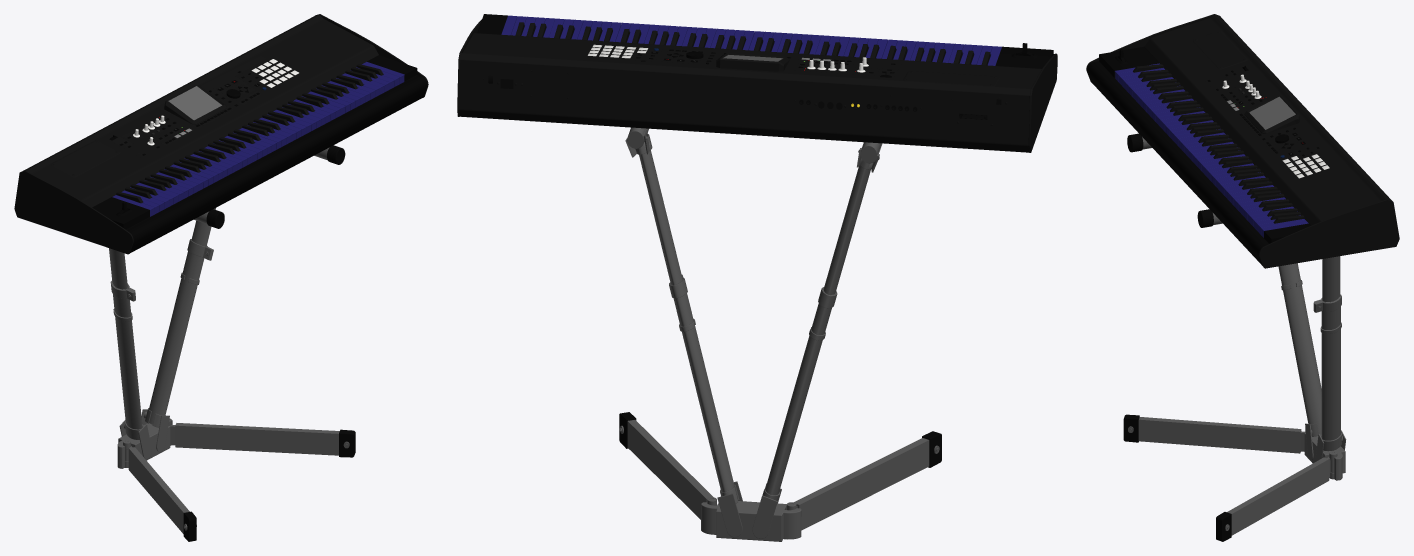
File: keyboard.fbx
3 views of the same model, side by side, from view 1: azimuth 30°, elevation 25°; view 2: azimuth 150°, elevation 25°; view 3: azimuth 270°, elevation 25° (orthographic). The views are drawn at different scales.
Parts seen in each view (by area): view 1: Obj3d66-1037772-538-664, Obj3d66-1037772-541-303, Obj3d66-1037772-560-41, Obj3d66-1037772-540-513, Obj3d66-1037772-561-749, Obj3d66-1037772-539-654, Obj3d66-1037772-559-980, Obj3d66-1037772-558-761, Obj3d66-1037772-553-703; view 2: Obj3d66-1037772-538-664, Obj3d66-1037772-560-41, Obj3d66-1037772-561-749, Obj3d66-1037772-540-513, Obj3d66-1037772-539-654, Obj3d66-1037772-541-303, Obj3d66-1037772-559-980, Obj3d66-1037772-557-400; view 3: Obj3d66-1037772-538-664, Obj3d66-1037772-560-41, Obj3d66-1037772-541-303, Obj3d66-1037772-561-749, Obj3d66-1037772-540-513, Obj3d66-1037772-539-654, Obj3d66-1037772-559-980, Obj3d66-1037772-558-761, Obj3d66-1037772-553-703.
Part boxes in pixels (box(x1,y1,x2,y2)): Obj3d66-1037772-538-664: box(14, 14, 428, 254); Obj3d66-1037772-541-303: box(92, 55, 427, 252); Obj3d66-1037772-560-41: box(110, 147, 349, 533); Obj3d66-1037772-540-513: box(112, 62, 404, 216); Obj3d66-1037772-561-749: box(109, 208, 215, 429); Obj3d66-1037772-539-654: box(116, 64, 383, 203); Obj3d66-1037772-559-980: box(183, 145, 355, 541); Obj3d66-1037772-558-761: box(168, 86, 221, 120); Obj3d66-1037772-553-703: box(251, 59, 298, 84); Obj3d66-1037772-538-664: box(457, 19, 1057, 152); Obj3d66-1037772-560-41: box(619, 127, 939, 541); Obj3d66-1037772-561-749: box(639, 135, 870, 499); Obj3d66-1037772-540-513: box(501, 15, 1001, 65); Obj3d66-1037772-539-654: box(515, 22, 990, 65); Obj3d66-1037772-541-303: box(477, 14, 1054, 77); Obj3d66-1037772-559-980: box(619, 412, 941, 467); Obj3d66-1037772-557-400: box(488, 75, 1001, 119); Obj3d66-1037772-538-664: box(1086, 14, 1399, 268); Obj3d66-1037772-560-41: box(1128, 137, 1346, 535); Obj3d66-1037772-541-303: box(1087, 47, 1319, 265); Obj3d66-1037772-561-749: box(1278, 256, 1340, 440); Obj3d66-1037772-540-513: box(1114, 63, 1308, 237); Obj3d66-1037772-539-654: box(1133, 64, 1304, 223); Obj3d66-1037772-559-980: box(1123, 133, 1231, 541); Obj3d66-1037772-558-761: box(1249, 96, 1295, 129); Obj3d66-1037772-553-703: box(1286, 154, 1329, 178).
Bounding box in the file's own units: 1000 × 824 × 633.
